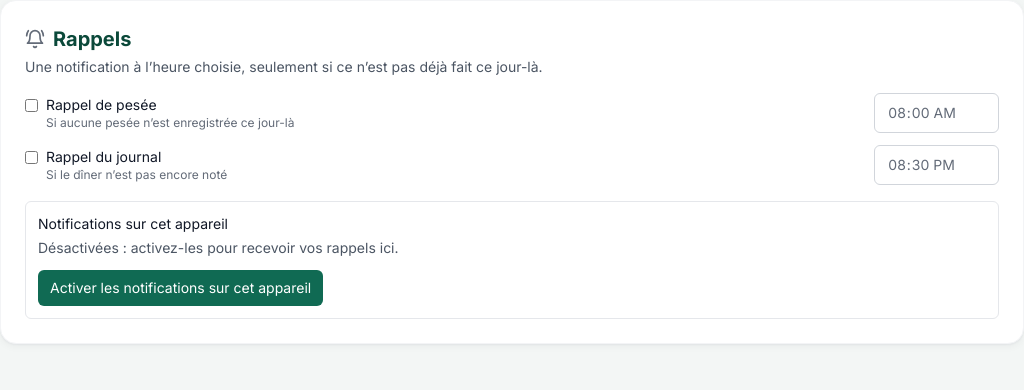
Test case: RemindersSection › affiche l'erreur d'activation
Click the button "Activer les notifications sur cet appareil" at (181, 288), box top-left (38, 270), bottom-right (323, 306)
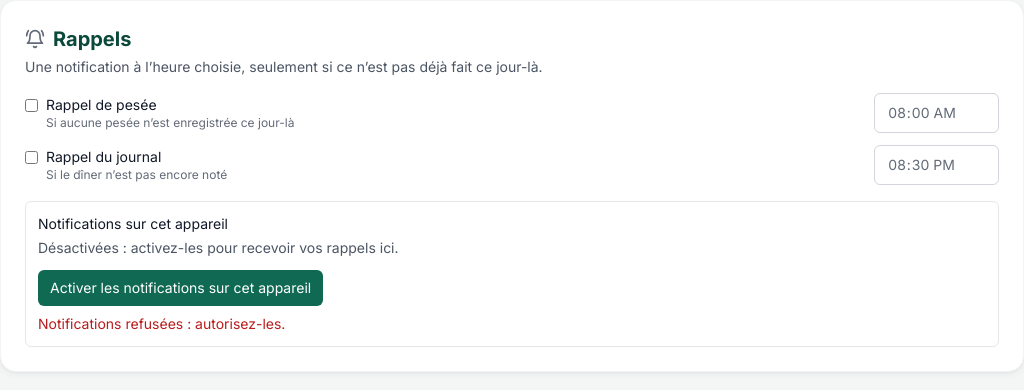
Result: the message shows "Notifications refusées" at top-left (38, 315), bottom-right (285, 332)
